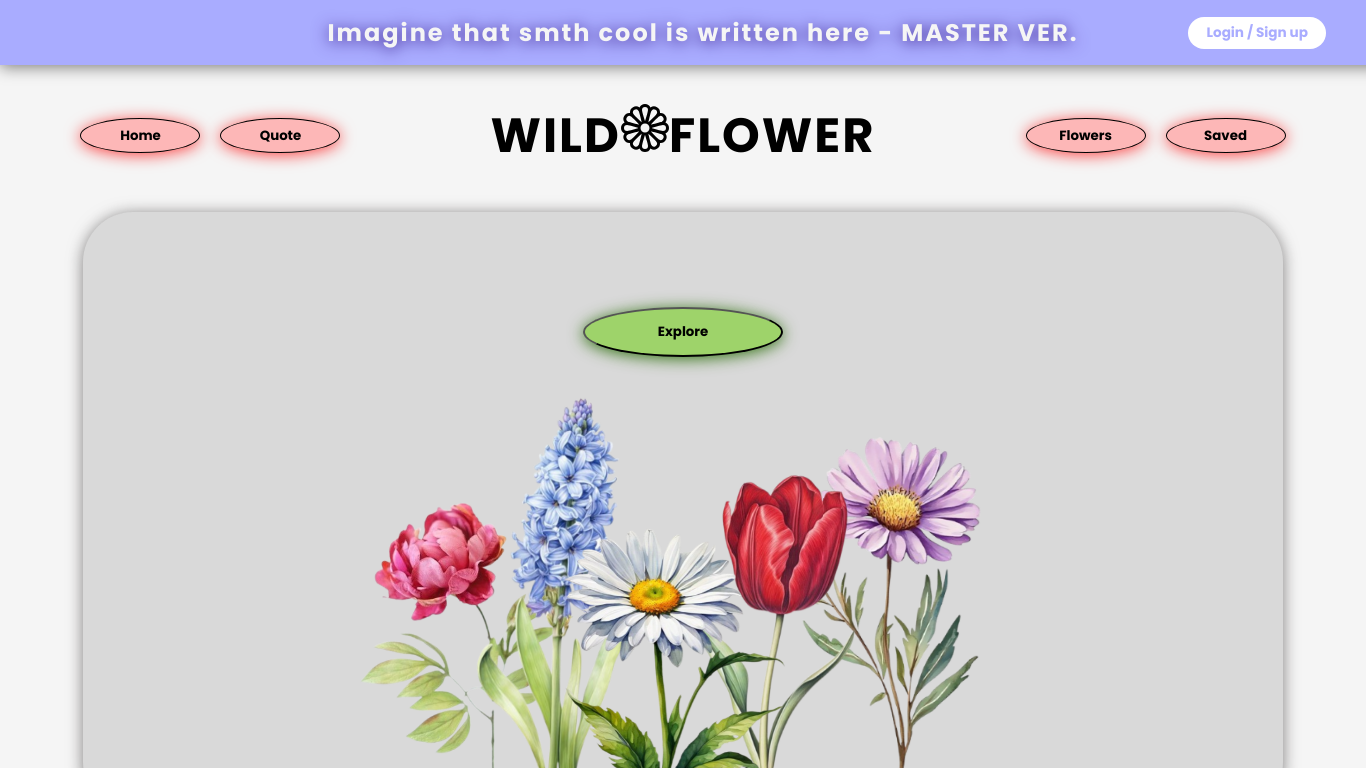
Test case: Wildflower App › opens auth modal when login button is clicked
What coordinates should you click on to do the following:
click the button with class "login"
I would click on:
 (1258, 33)
Its box is [1189,17,1327,49].
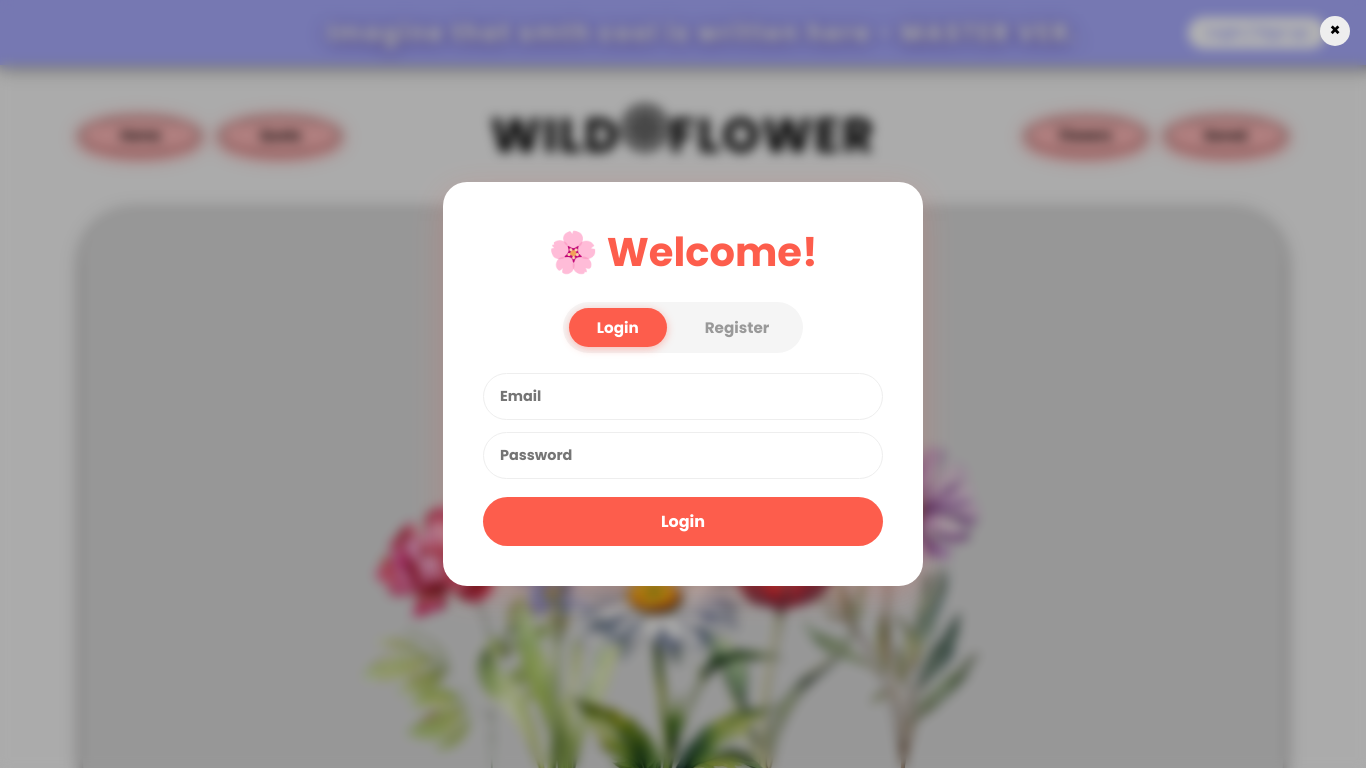
Expected: the element with class "auth-modal" is shown, [443,182,923,586]
Expected: the heading "🌸 Welcome!" is shown, [548,222,818,282]
